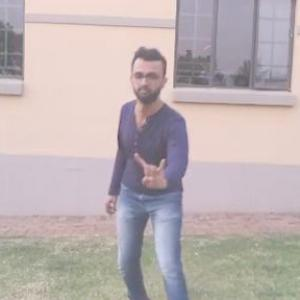takeoff-hand: (127, 143, 172, 196)
